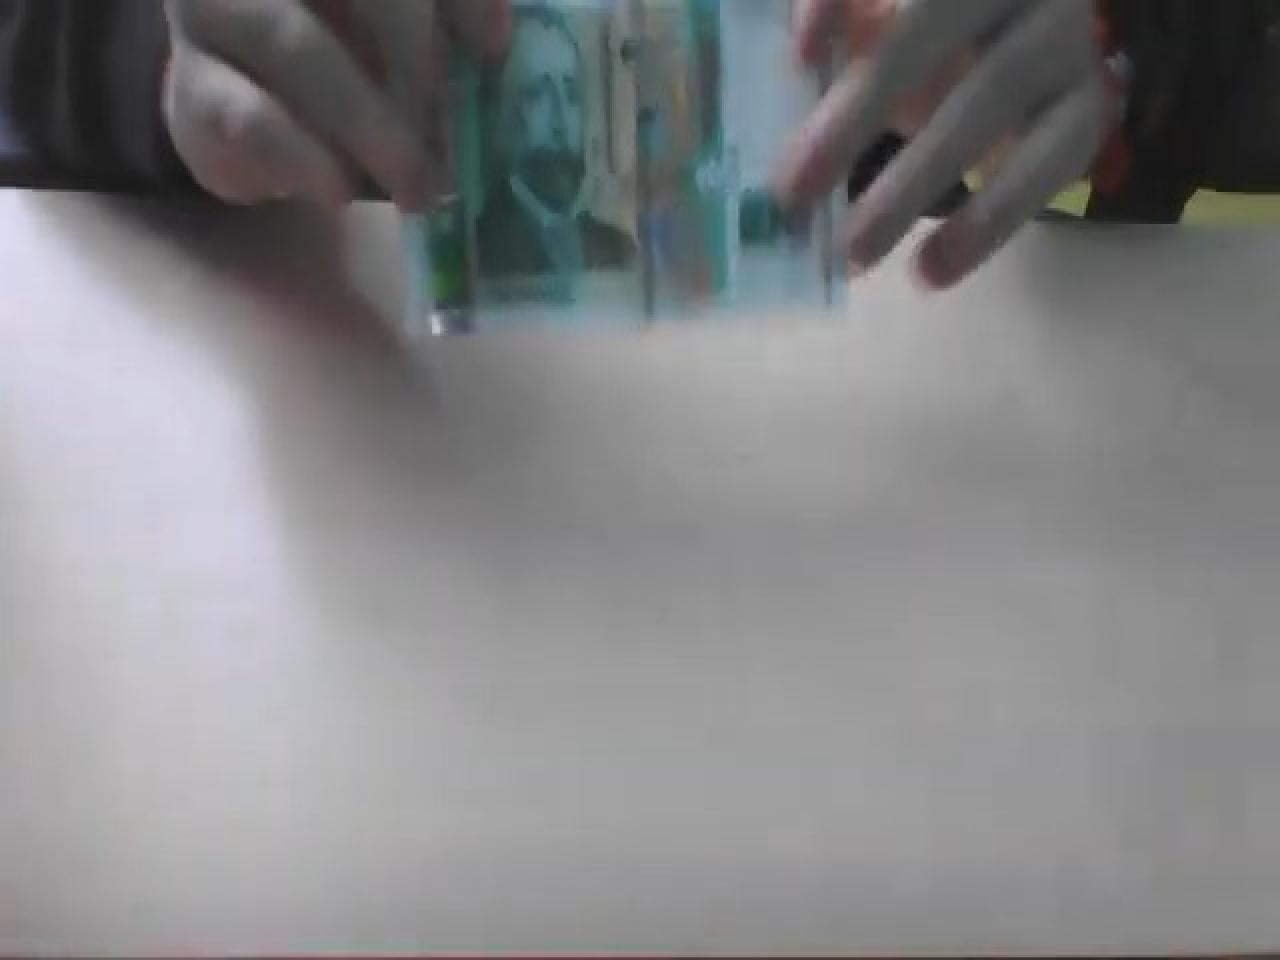100leva: (410, 0, 800, 331)
